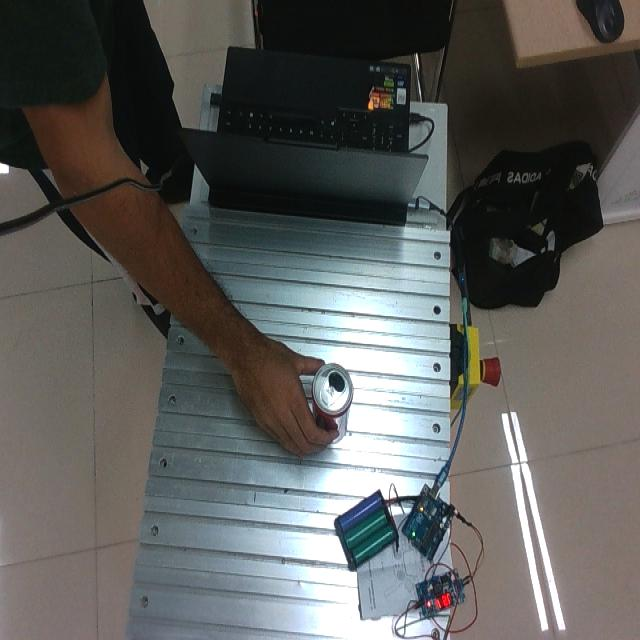coca: (310, 361, 354, 443)
